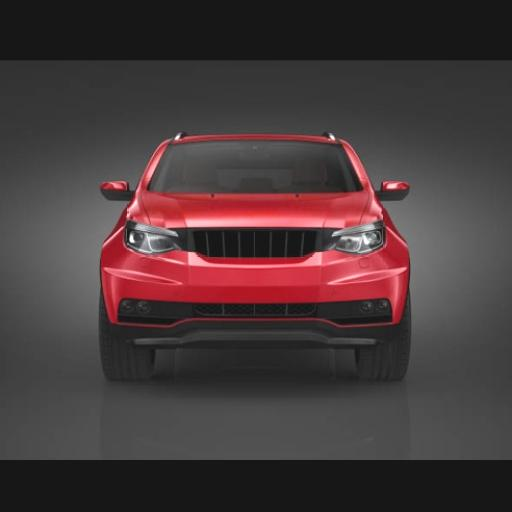suv: (100, 133, 411, 380)
